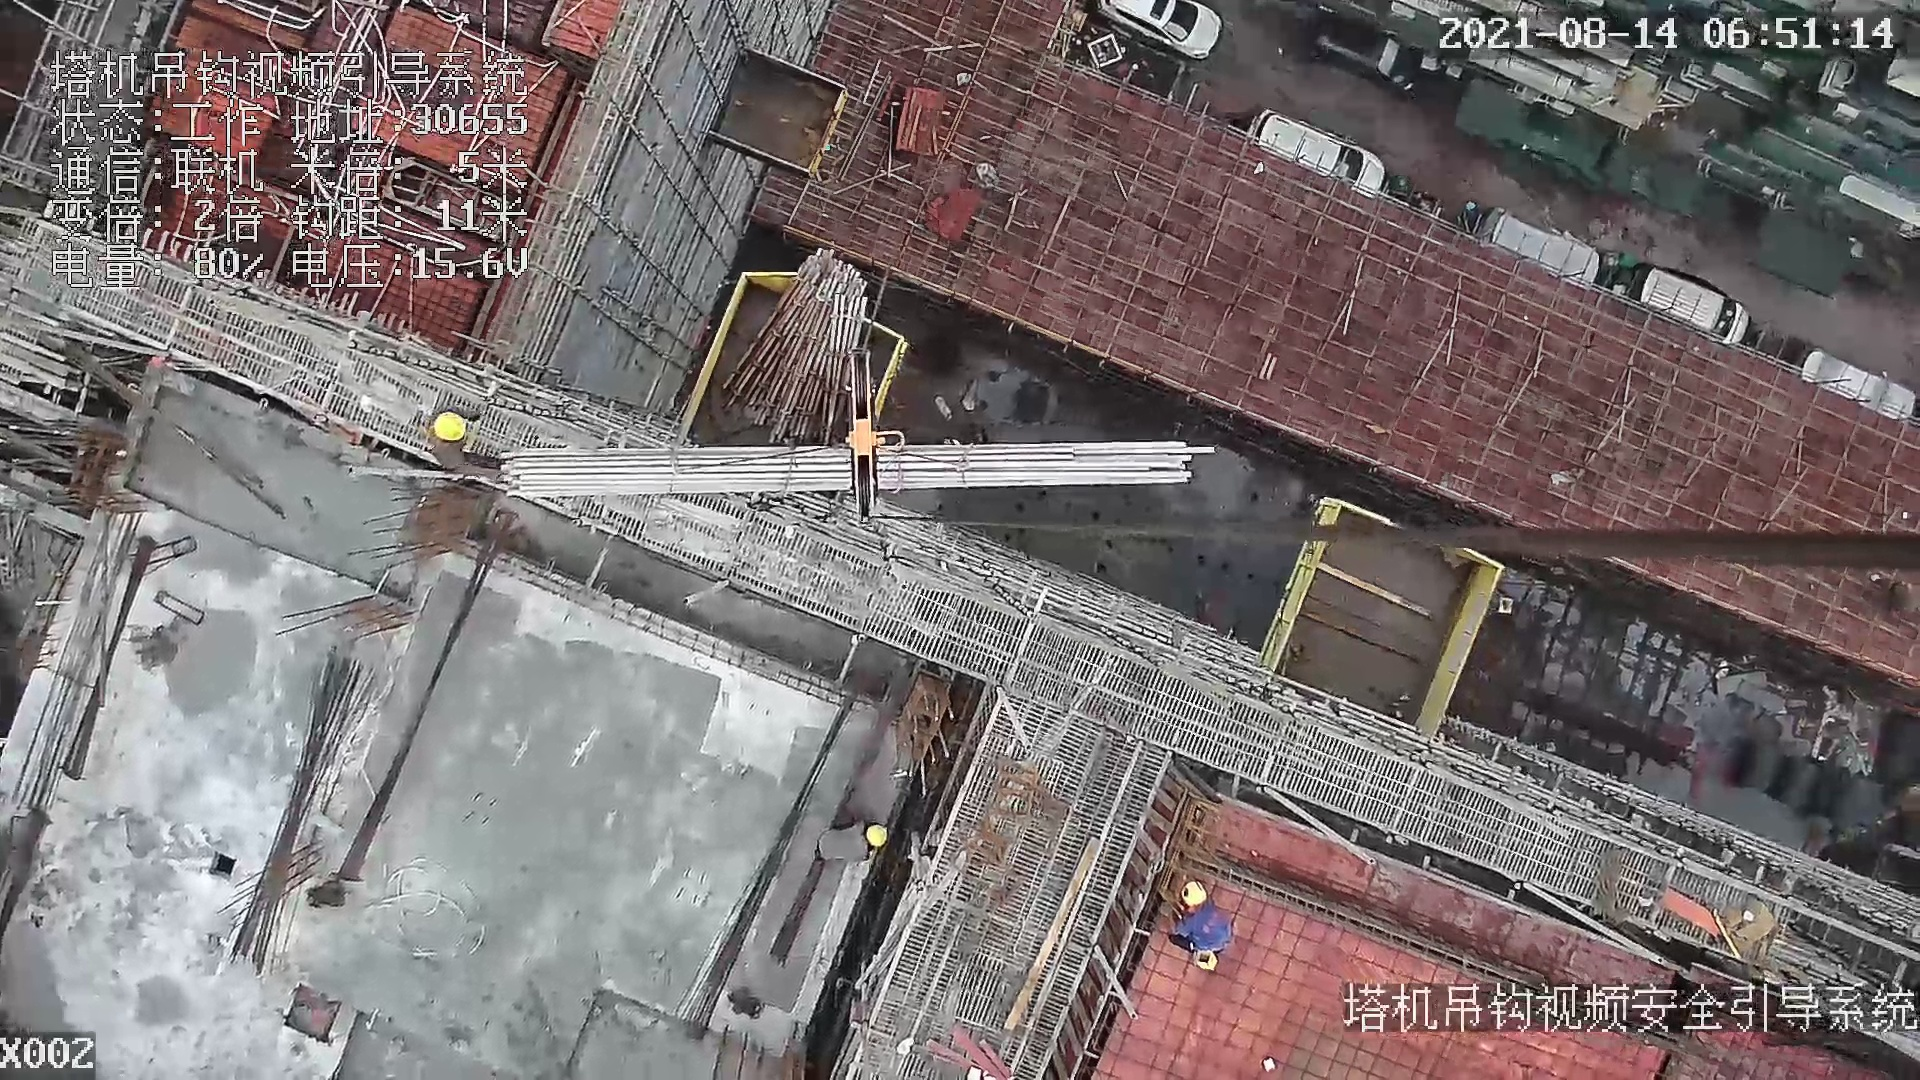helmet: (432, 410, 465, 440), (862, 823, 894, 849), (1182, 882, 1209, 909)
hook: (833, 346, 915, 523)
person: (423, 397, 510, 486), (1162, 878, 1236, 977), (815, 813, 900, 864)
rebar: (228, 639, 386, 981), (500, 439, 1231, 500)
scaffold: (729, 246, 859, 445)
